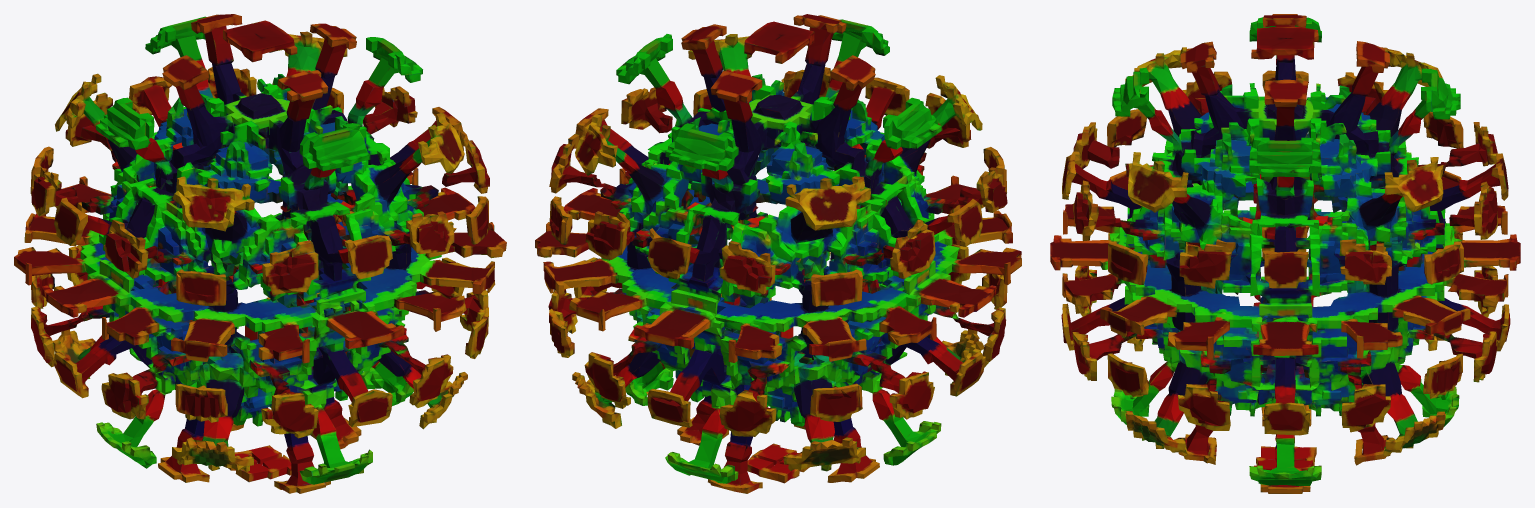
File: imagen1.jpeg.glb
The picture shows the model from 3 angles, left to right: view 1: azimuth 30°, elevation 25°; view 2: azimuth 150°, elevation 25°; view 3: azimuth 270°, elevation 25°; orthographic projection.
Visible parts, largest first — view 1: world; view 2: world; view 3: world.
Part boxes in pixels (x1,y1,x2,y2): world: (14,14,506,493); world: (535,14,1021,493); world: (1050,14,1520,493).
Bounding box in the file's own units: 0.9998 × 1 × 1.
1 material, 1 textured.
